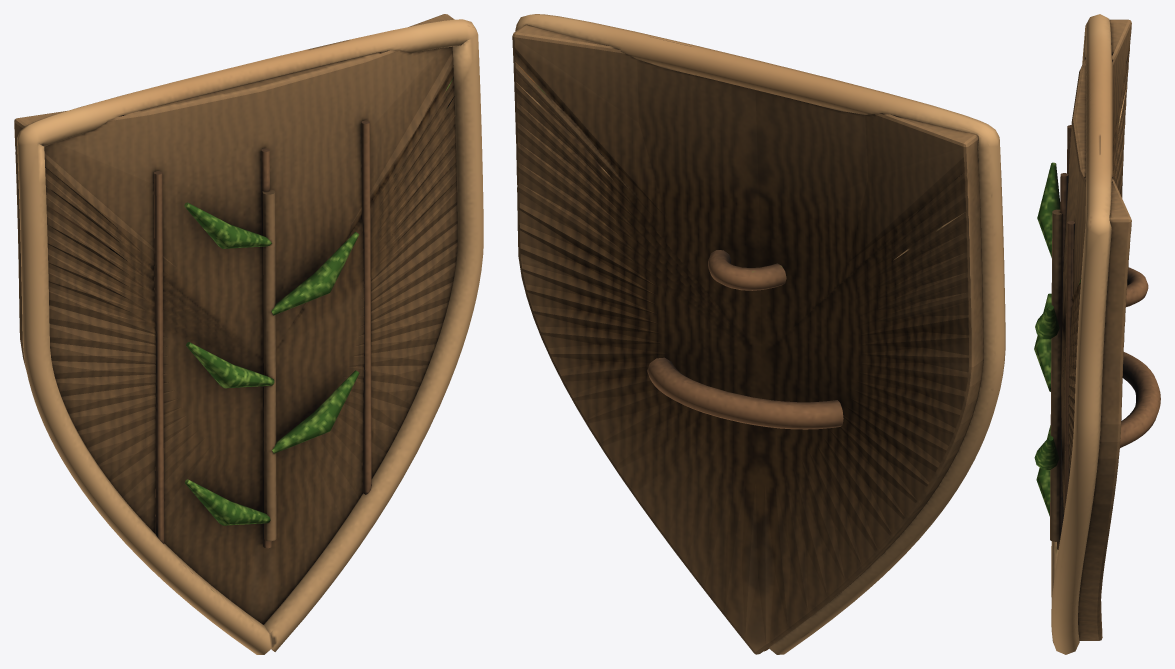
The model's file is arma_escudo_mata.glb.
3 views of the same model, side by side, from view 1: azimuth 30°, elevation 25°; view 2: azimuth 150°, elevation 25°; view 3: azimuth 270°, elevation 25° (orthographic). The views are drawn at different scales.
Visible parts, largest first — view 1: arma_escudo_mata; view 2: arma_escudo_mata; view 3: arma_escudo_mata.
Boxes of the visible parts, <box> form: arma_escudo_mata: <box>14,14,483,654</box>; arma_escudo_mata: <box>512,14,1005,654</box>; arma_escudo_mata: <box>1034,14,1160,654</box>.
Size of the model in its own units: 0.486 by 0.5825 by 0.123.
Materials: 1 (1 with a texture image).
